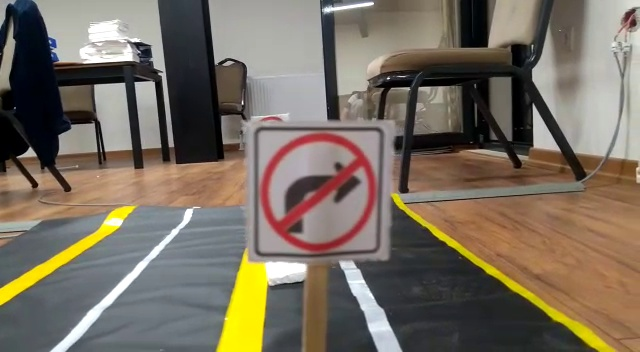saga_donulmez: (250, 130, 384, 254)
